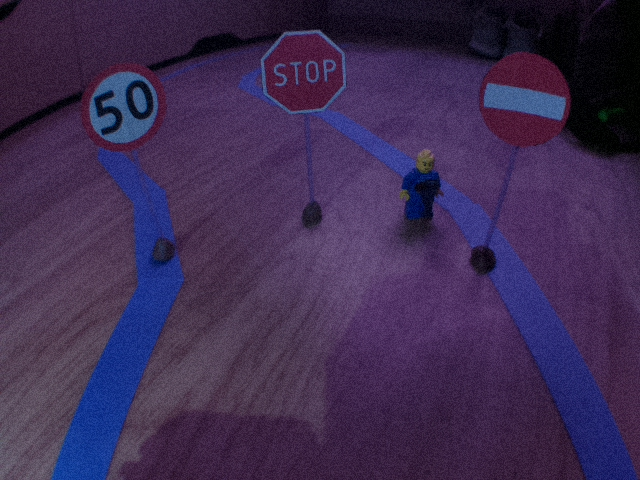LEGO_person: (397, 148, 445, 226)
ogr_50: (78, 61, 168, 155)
stop: (258, 28, 348, 117)
zakaz: (475, 51, 572, 150)
